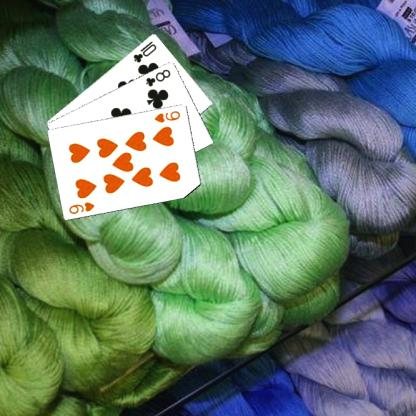10C: (131, 38, 158, 64)
8C: (143, 66, 172, 88)
9H: (152, 108, 182, 124), (66, 199, 96, 215)
